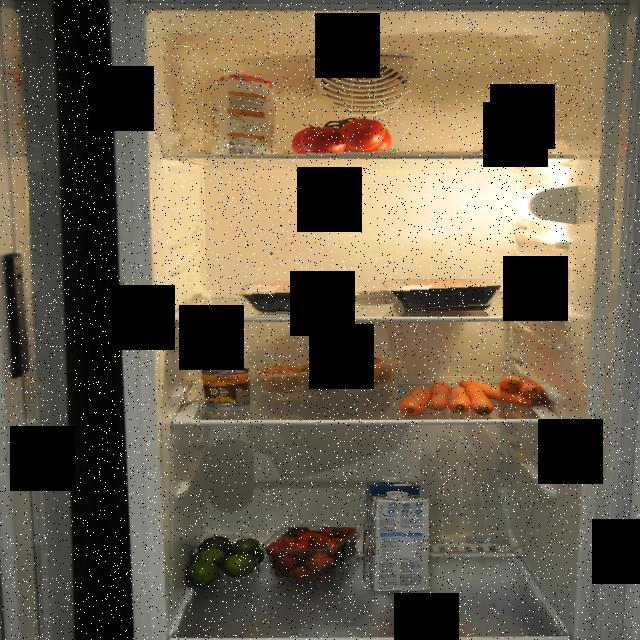beef: (380, 280, 500, 312)
carrot: (399, 376, 549, 418)
corn: (197, 364, 250, 414)
flour: (466, 91, 538, 152)
ground_beef: (240, 280, 353, 320)
lime: (186, 534, 260, 590)
milk: (363, 474, 423, 582), (370, 488, 428, 592)
potato: (248, 351, 402, 413)
strawberries: (264, 527, 356, 585)
sugar: (211, 64, 284, 154)
tomato: (288, 116, 396, 158)
